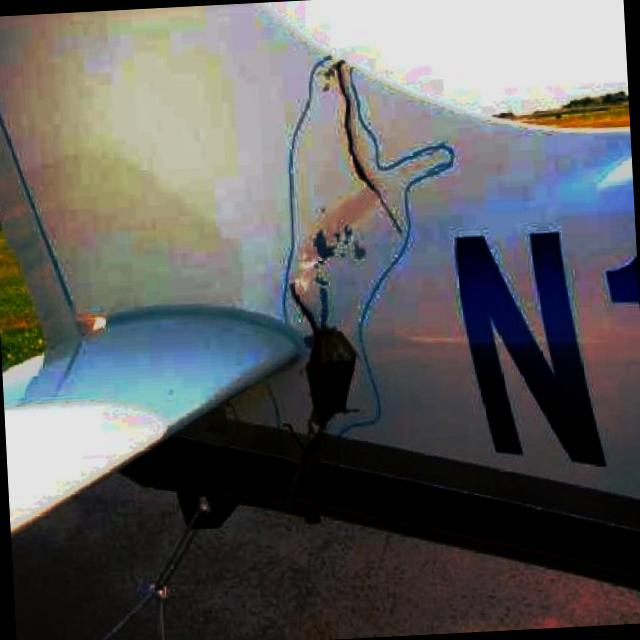crack: (327, 81, 418, 248)
